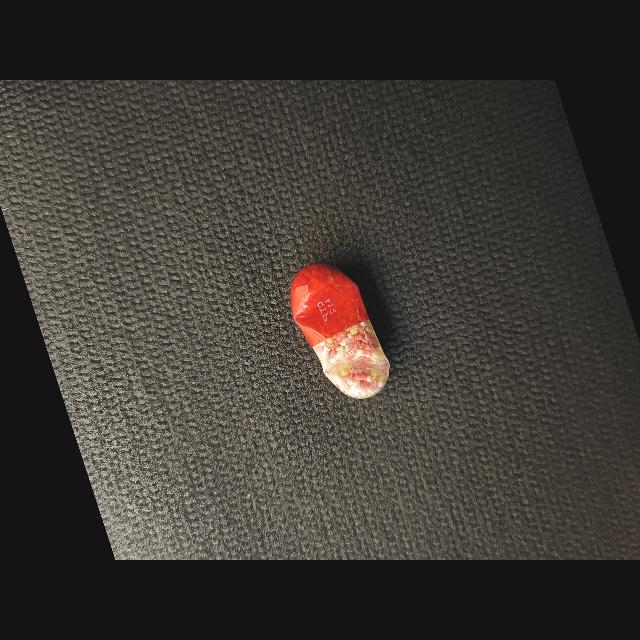Defective Capsule: (291, 262, 390, 399)
